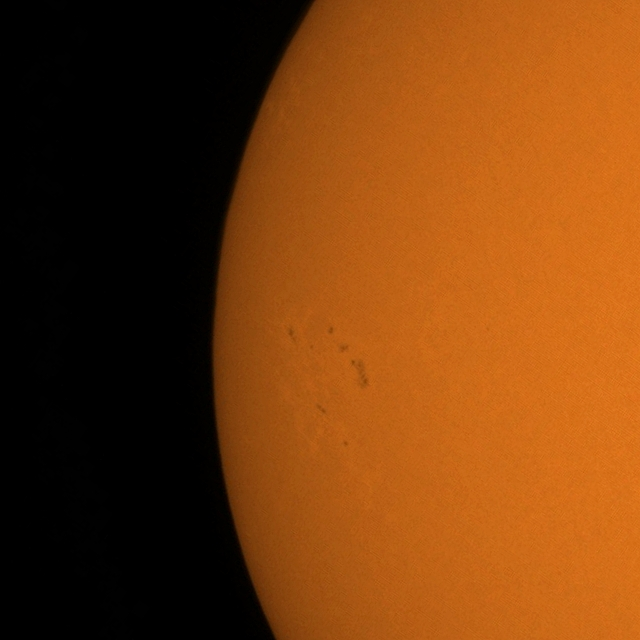sunspot: (350, 358, 370, 388), (313, 403, 327, 424), (340, 344, 350, 354), (327, 325, 335, 336), (342, 440, 349, 448)
